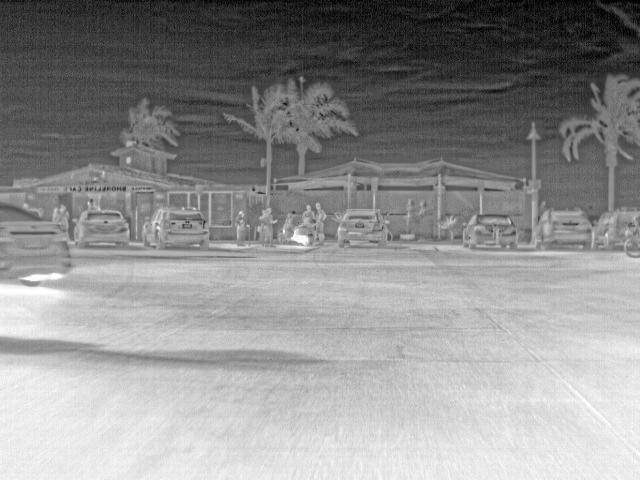car: (1, 200, 75, 287), (141, 208, 211, 250), (531, 209, 594, 251), (460, 212, 519, 251), (74, 209, 131, 249), (336, 207, 389, 250), (594, 208, 623, 251), (623, 207, 639, 233)
person: (312, 200, 327, 246), (235, 210, 247, 246), (265, 206, 275, 247), (302, 203, 315, 228), (58, 204, 70, 230), (258, 208, 266, 241), (282, 212, 296, 230)
